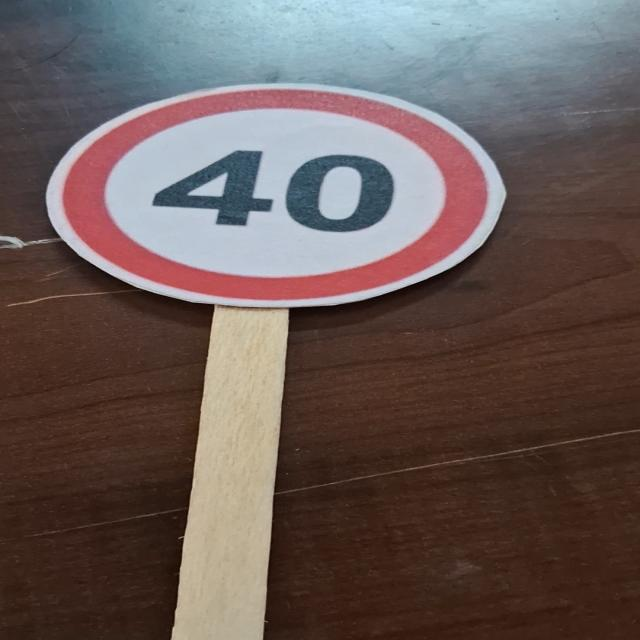Speed40: (40, 77, 514, 310)
